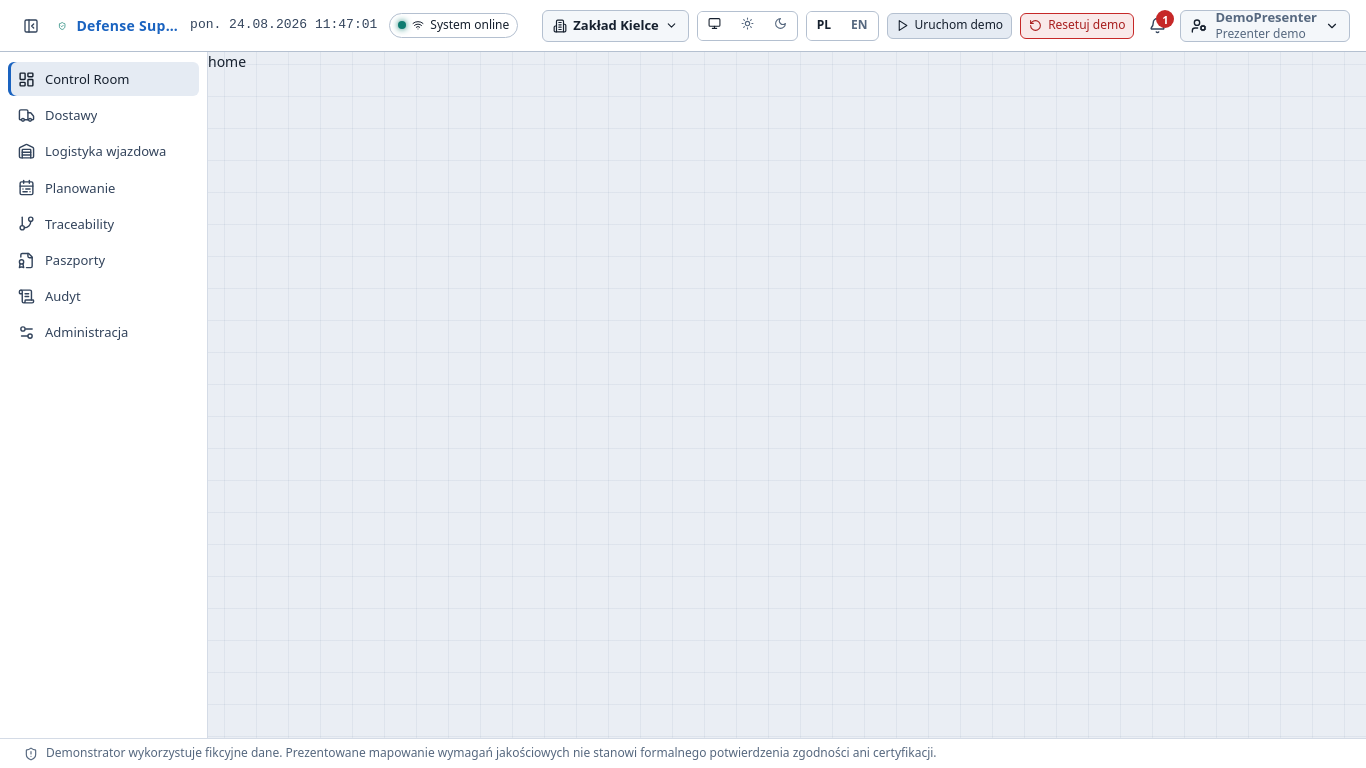
it: AppShell › auto-logs in as DemoPresenter and shows full nav; switching to supplier hides control-room nav
This screenshot has width=1366, height=768.
Expected: the text with test id "current-role" reads "Prezenter demo", top-left (1216, 25), bottom-right (1306, 42)
Expected: the link with test id "nav-controlRoom" is shown, top-left (8, 62), bottom-right (199, 96)
Click the button with test id "user-menu" at (1265, 26), box top-left (1180, 10), bottom-right (1350, 42)
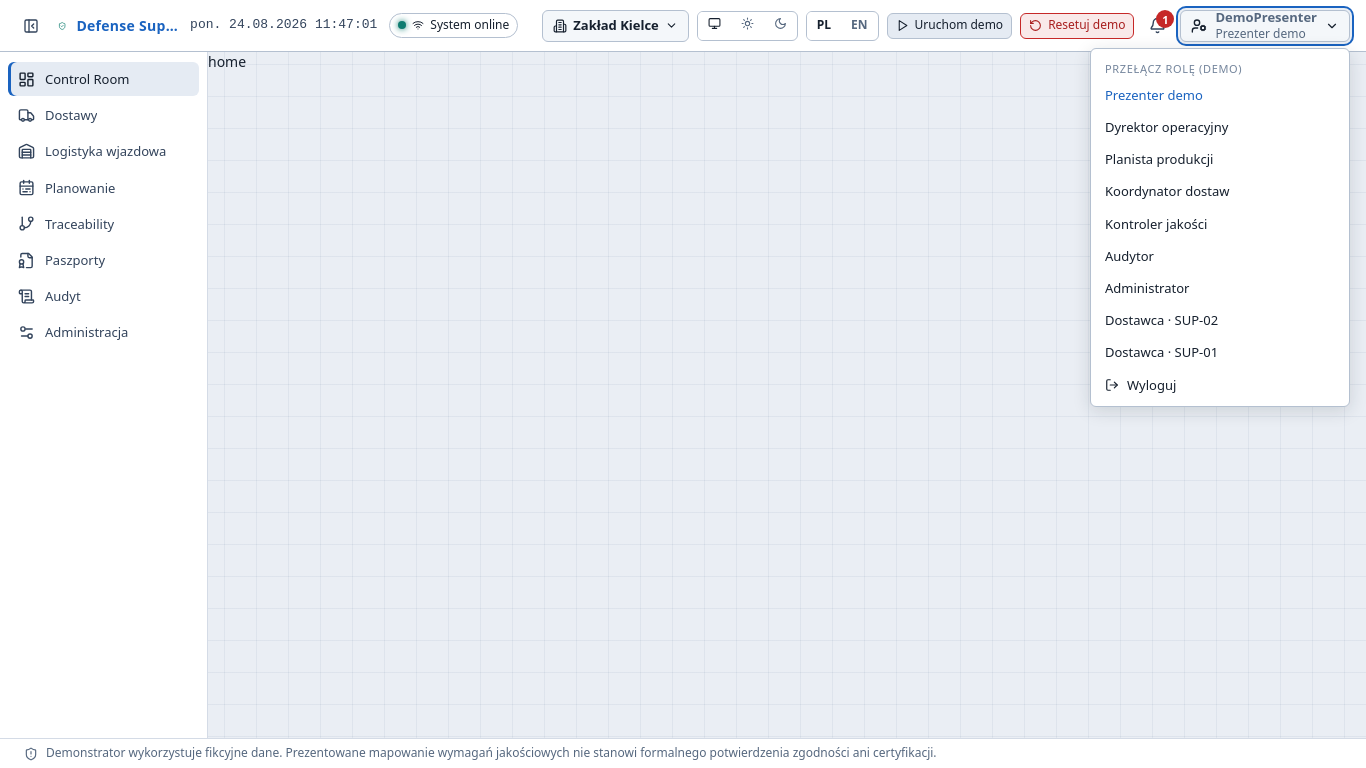
Click the menu item with test id "switch-role-SupplierUser-SUP-02" at (1220, 320), box top-left (1097, 305), bottom-right (1343, 335)
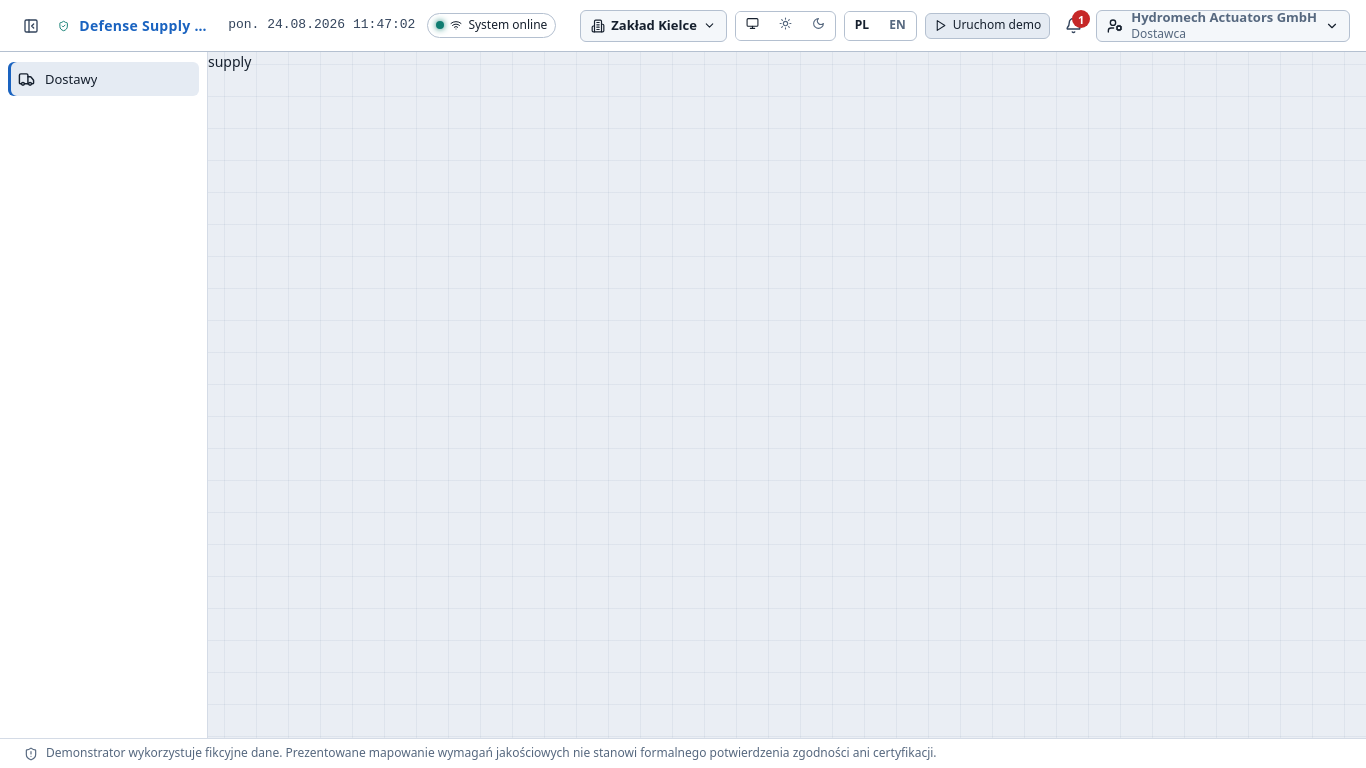
Now the text with test id "current-role" reads "Dostawca", box top-left (1131, 25), bottom-right (1186, 42)
Now the link with test id "nav-controlRoom" is gone
Now the link with test id "nav-admin" is gone
